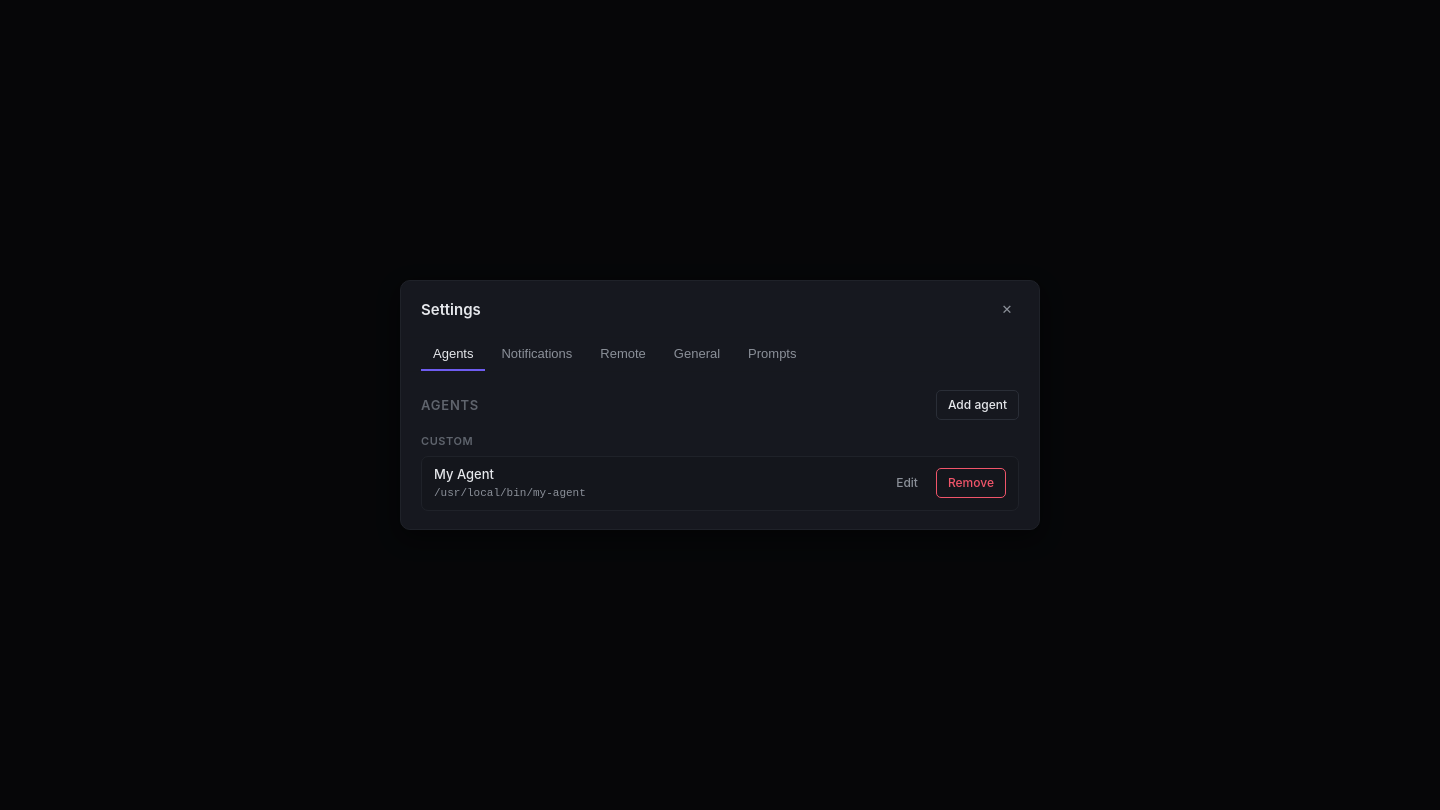
Test case: SettingsModal › reloads the agent list after a successful remove
Expected: the text "My Agent" is shown, [434, 466, 494, 482]
Click the button "Remove": (971, 483) [936, 468, 1006, 498]
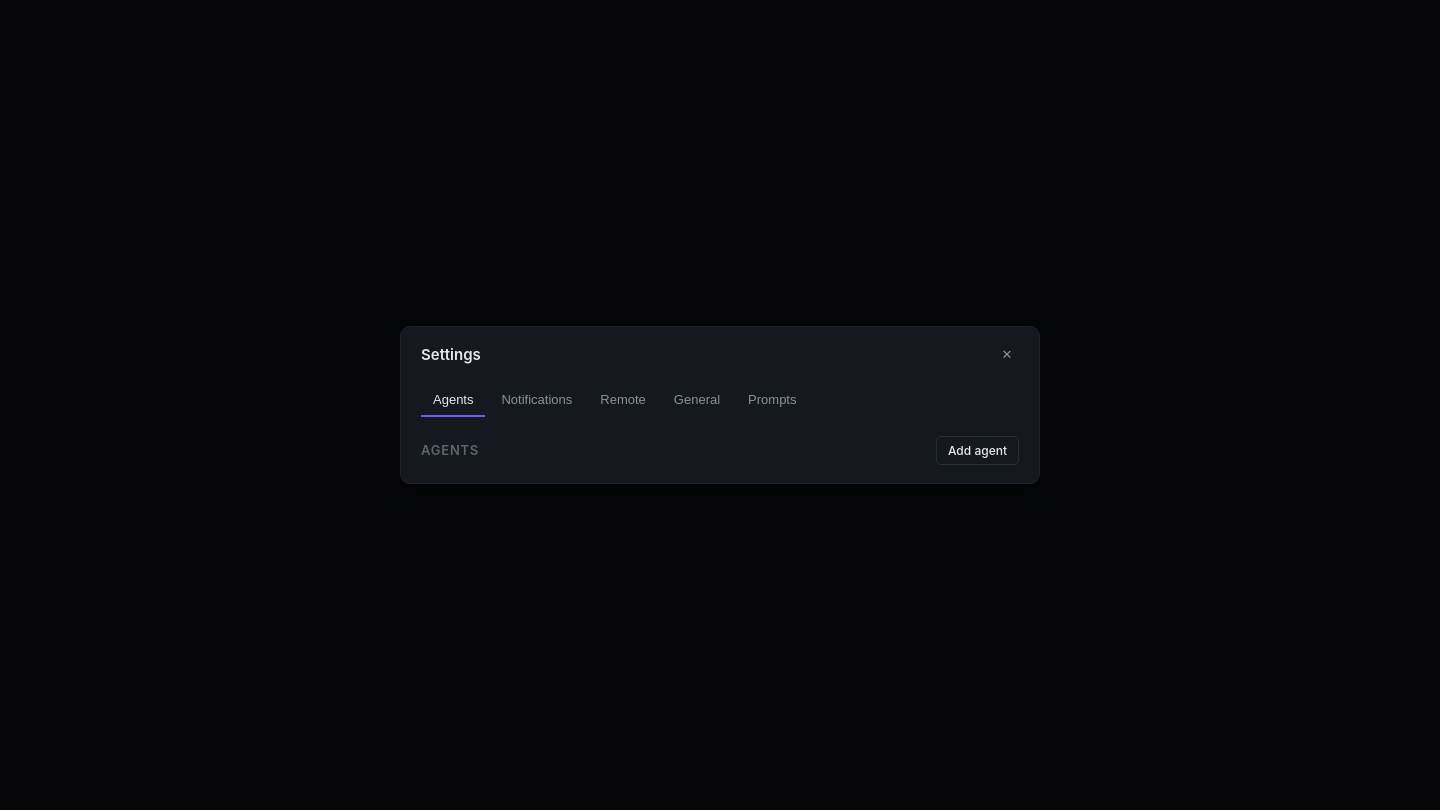
Expected: the text "My Agent" is gone
